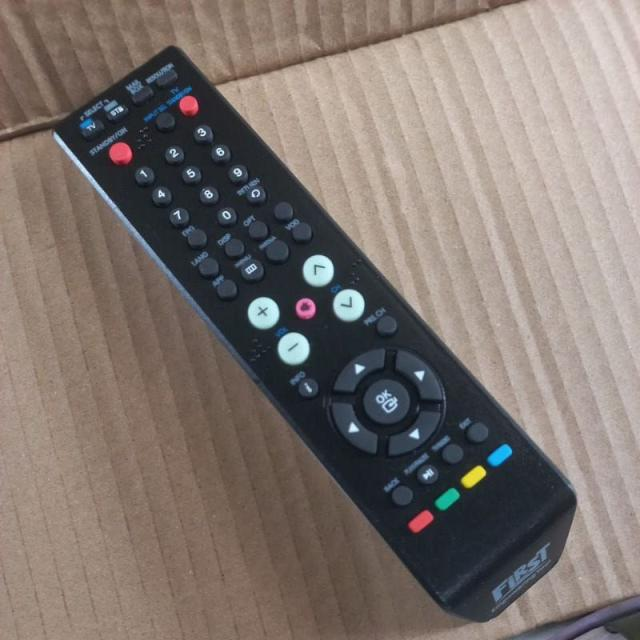remote: (50, 44, 578, 624)
